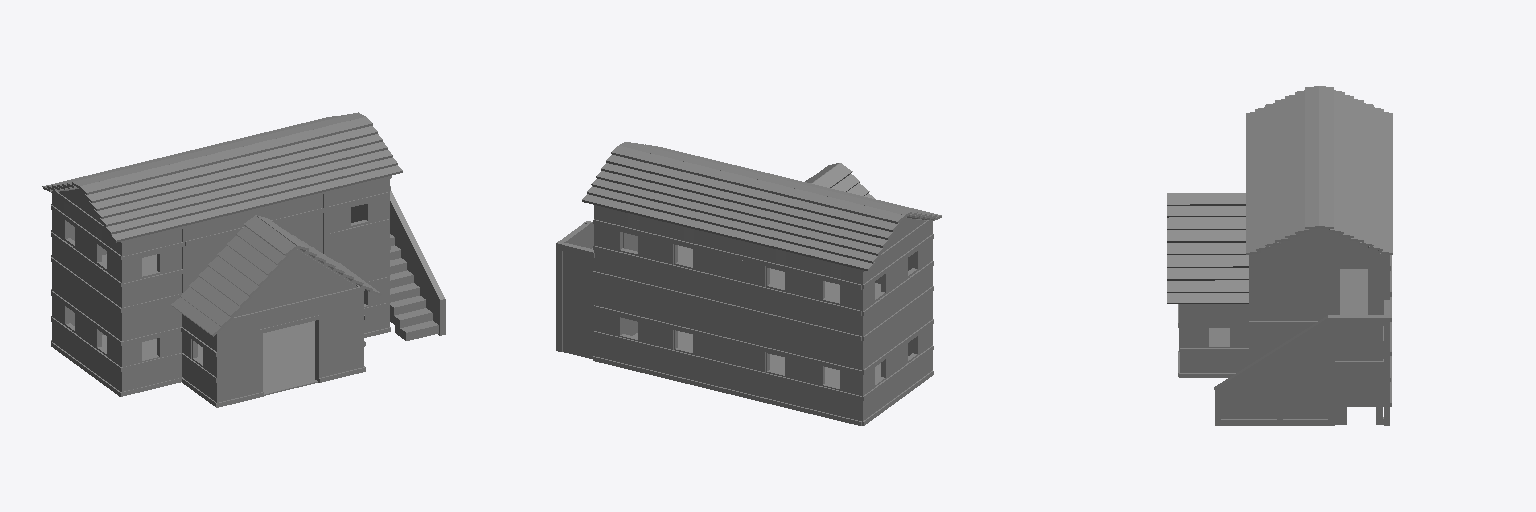
The model's file is WoodHouse1.obj.
The picture shows the model from 3 angles: view 1: azimuth 30°, elevation 25°; view 2: azimuth 150°, elevation 25°; view 3: azimuth 270°, elevation 25°; orthographic projection.
Parts seen in each view (by area): view 1: HOUSE2; view 2: HOUSE2; view 3: HOUSE2.
Part boxes in pixels (x1,y1,x2,y2): HOUSE2: (42,112,445,407); HOUSE2: (556,142,941,425); HOUSE2: (1167,86,1392,425).
Bounding box in the file's own units: 45.43 × 25.86 × 28.45.